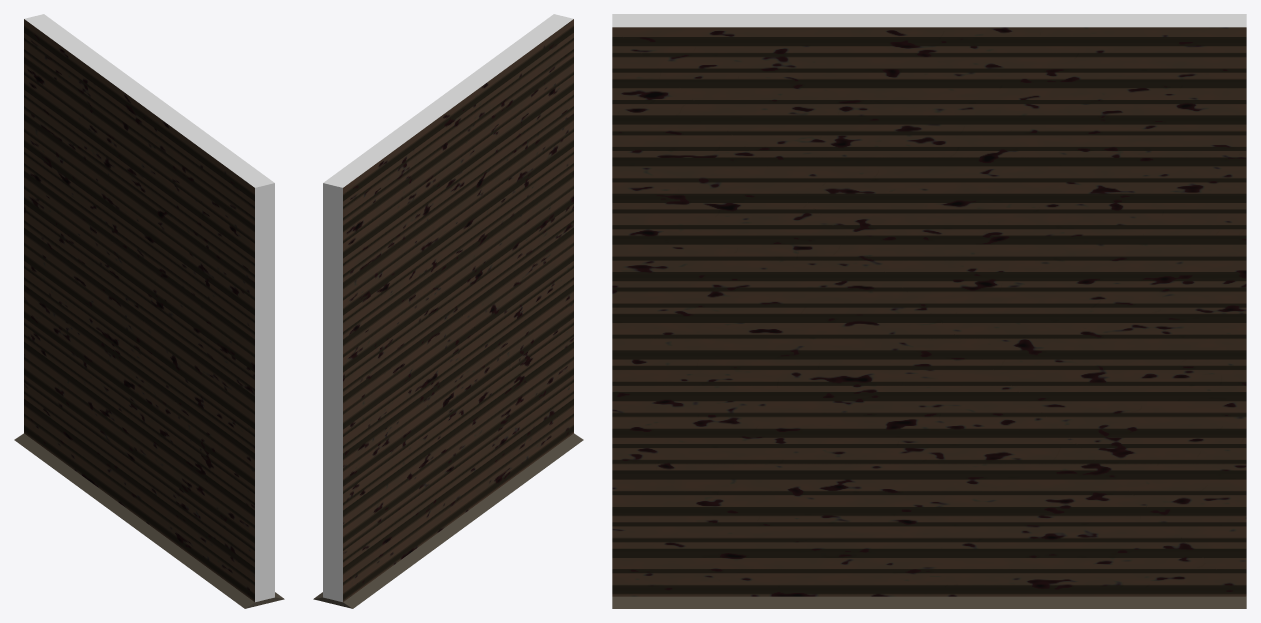
Rendered from W-Shutter.fbx.
3 views of the same model, side by side, from view 1: azimuth 30°, elevation 25°; view 2: azimuth 150°, elevation 25°; view 3: azimuth 270°, elevation 25° (orthographic). The views are drawn at different scales.
Visible parts, largest first — view 1: Shutter; view 2: Shutter; view 3: Shutter.
Boxes of the visible parts, x1=… form: Shutter: x1=14, y1=14, x2=284, y2=608; Shutter: x1=313, y1=14, x2=583, y2=608; Shutter: x1=612, y1=14, x2=1246, y2=608.
Bounding box in the file's own units: 20 × 200 × 200.
1 material, 1 textured.
